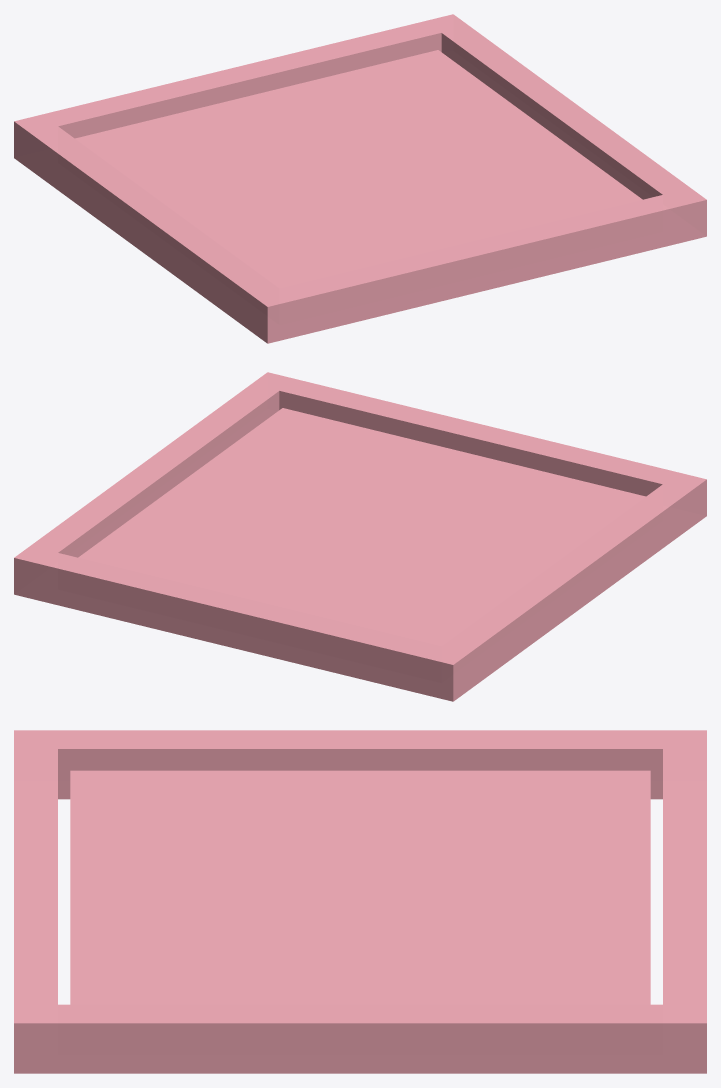
Rendered from tile-square-red.glb.
The picture shows the model from 3 angles, top to bottom: view 1: azimuth 30°, elevation 25°; view 2: azimuth 150°, elevation 25°; view 3: azimuth 270°, elevation 25°; orthographic projection. The views are drawn at different scales.
Visible parts, largest first — view 1: tile; view 2: tile; view 3: tile.
Part boxes in pixels (x1,y1,x2,y2): tile: (14, 14, 706, 343); tile: (14, 372, 706, 701); tile: (14, 730, 706, 1073).
Size of the model in its own units: 1 by 0.08 by 1.
